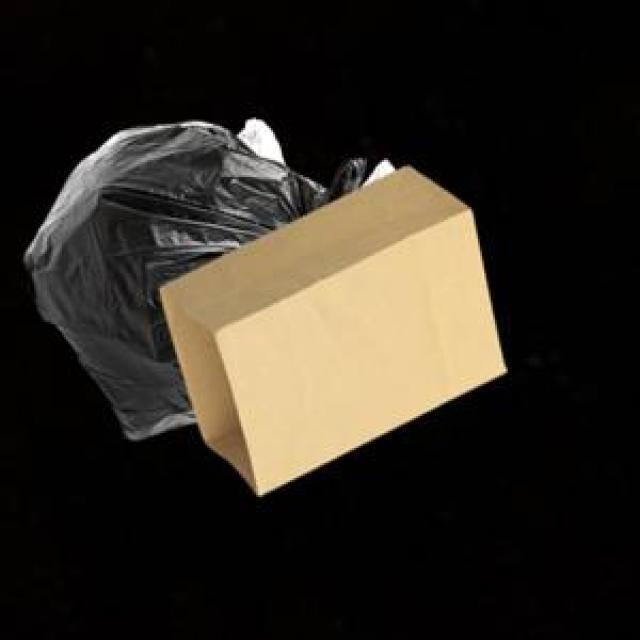miscellaneous trash: (19, 117, 360, 435)
paper: (156, 162, 501, 491)
